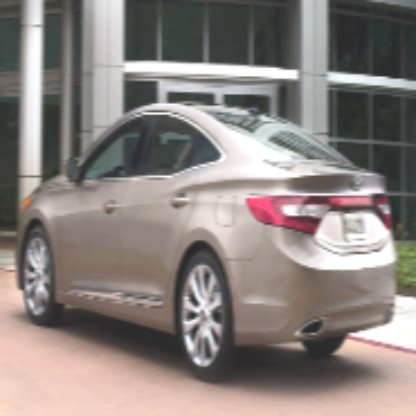Vehicle: (15, 99, 395, 383)
